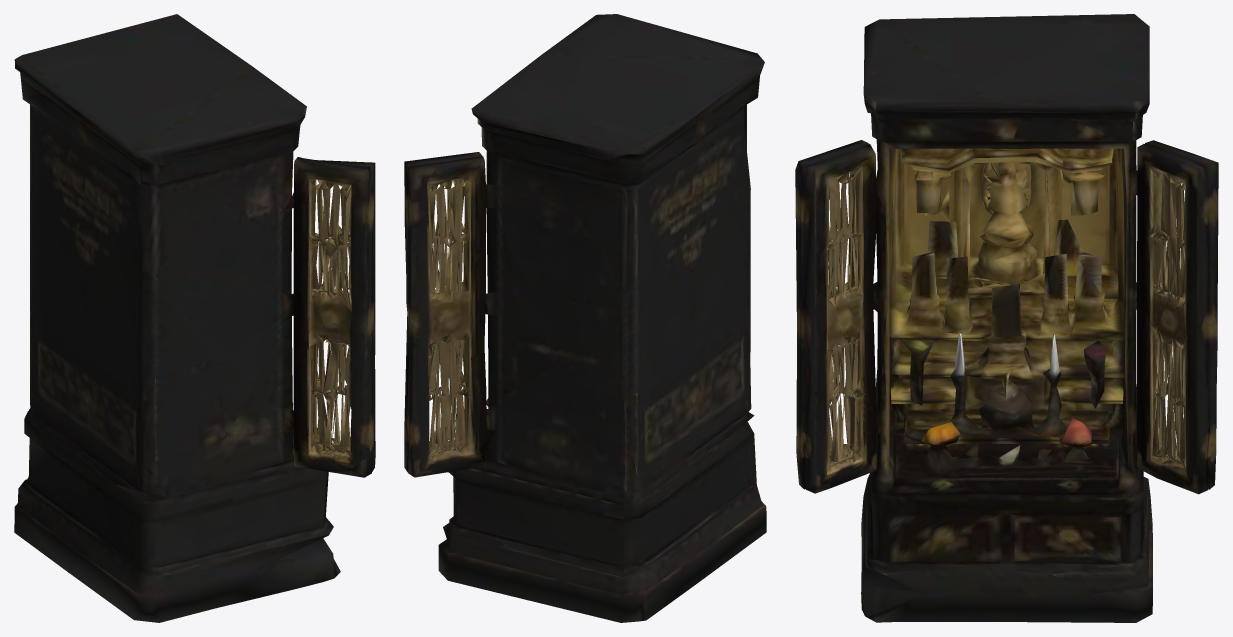
File: butsudan.glb
3 views of the same model, side by side, from view 1: azimuth 30°, elevation 25°; view 2: azimuth 150°, elevation 25°; view 3: azimuth 270°, elevation 25° (orthographic). The views are drawn at different scales.
Visible parts, largest first — view 1: tripo_node_48e6f562-fa6c-4144-9f63-721f52325a79; view 2: tripo_node_48e6f562-fa6c-4144-9f63-721f52325a79; view 3: tripo_node_48e6f562-fa6c-4144-9f63-721f52325a79.
Part boxes in pixels (box(x1,y1,x2,y2)): tripo_node_48e6f562-fa6c-4144-9f63-721f52325a79: box(14, 14, 375, 622); tripo_node_48e6f562-fa6c-4144-9f63-721f52325a79: box(404, 14, 766, 622); tripo_node_48e6f562-fa6c-4144-9f63-721f52325a79: box(795, 14, 1218, 622).
Size of the model in its own units: 0.4663 by 1 by 0.763.
1 material, 1 textured.
